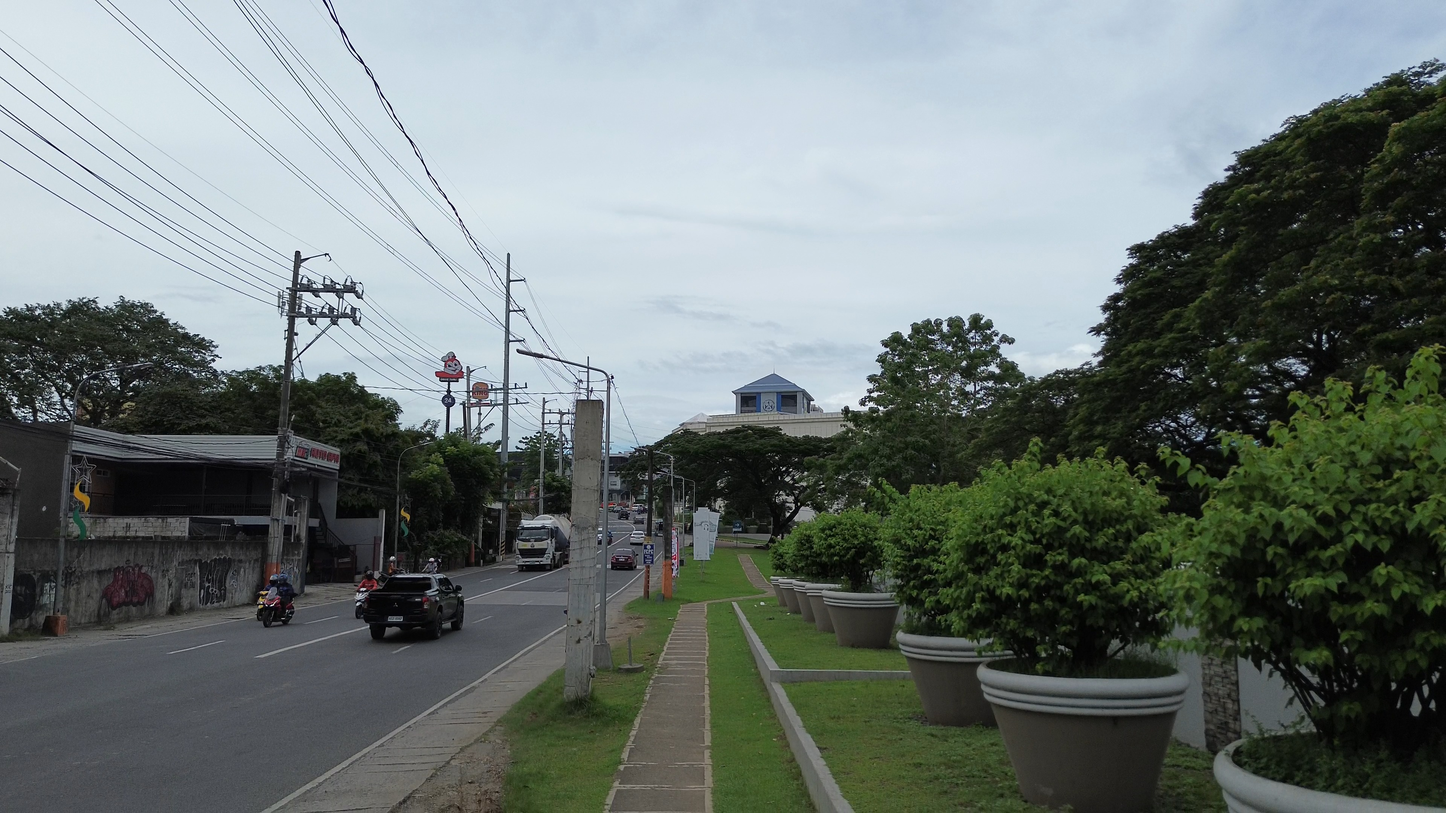motorcycle: (355, 589, 371, 618)
vehicle: (362, 574, 464, 639), (516, 514, 571, 570), (260, 597, 293, 627), (609, 548, 636, 569), (356, 589, 371, 618), (628, 530, 645, 545)
